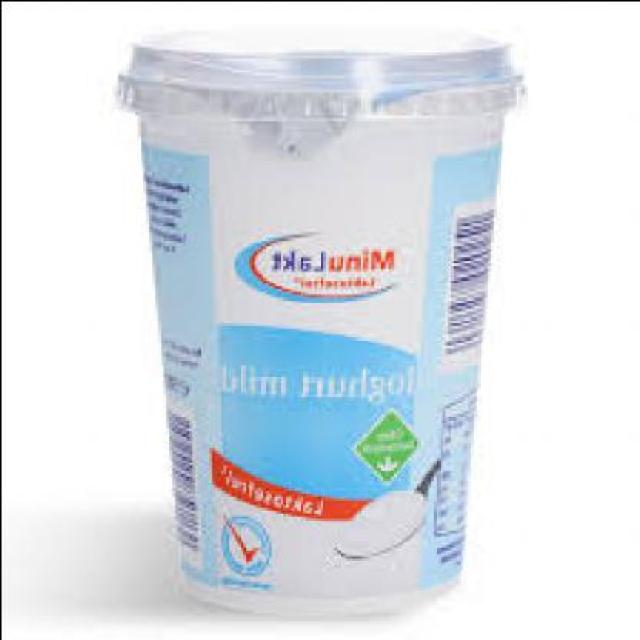PLASTIC: (117, 29, 529, 620)
